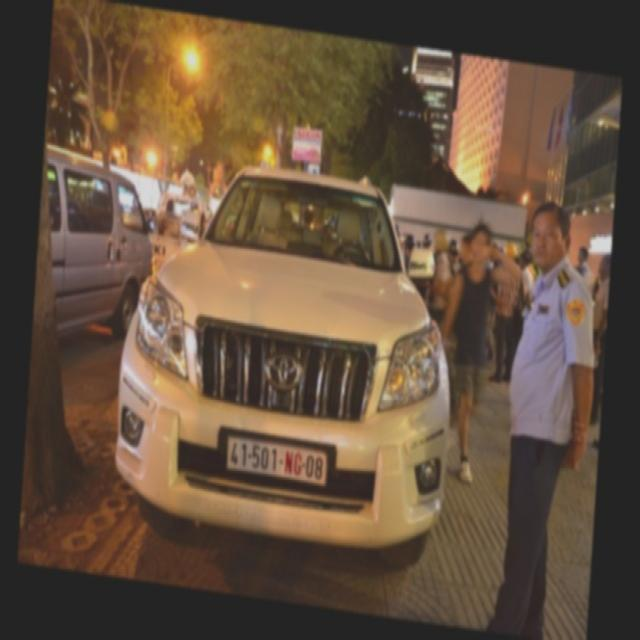bien_ngoai_giao: (225, 431, 328, 488)
